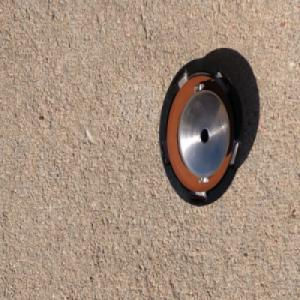FuelCap: (157, 55, 245, 209)
